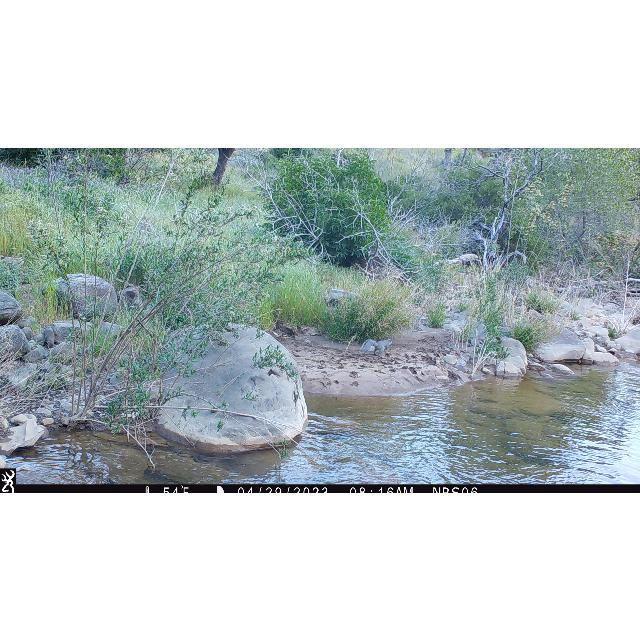animals: (359, 338, 393, 357)
